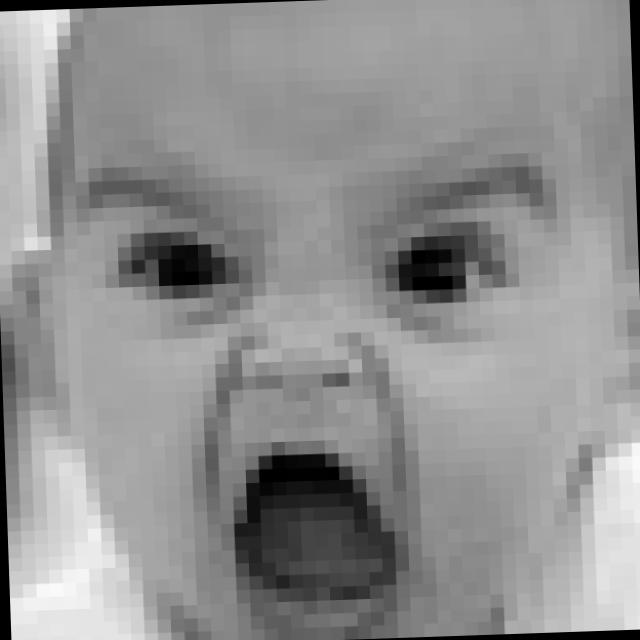angry: (78, 155, 569, 632)
